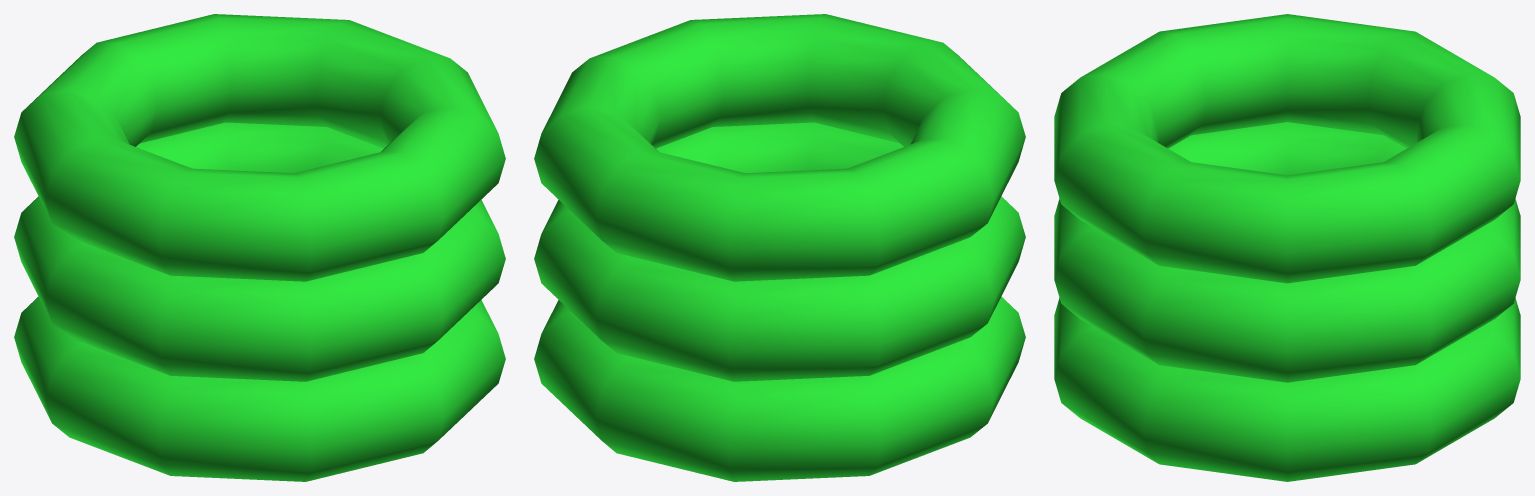
File: string3.fbx
3 views of the same model, side by side, from view 1: azimuth 30°, elevation 25°; view 2: azimuth 150°, elevation 25°; view 3: azimuth 270°, elevation 25° (orthographic).
Visible parts, largest first — view 1: string3; view 2: string3; view 3: string3.
Boxes of the visible parts, x1,y1,x2,y2 form: string3: [14, 14, 505, 481]; string3: [534, 14, 1025, 481]; string3: [1054, 14, 1520, 481].
Size of the model in its own units: 0.416 by 0.2779 by 0.3956.
